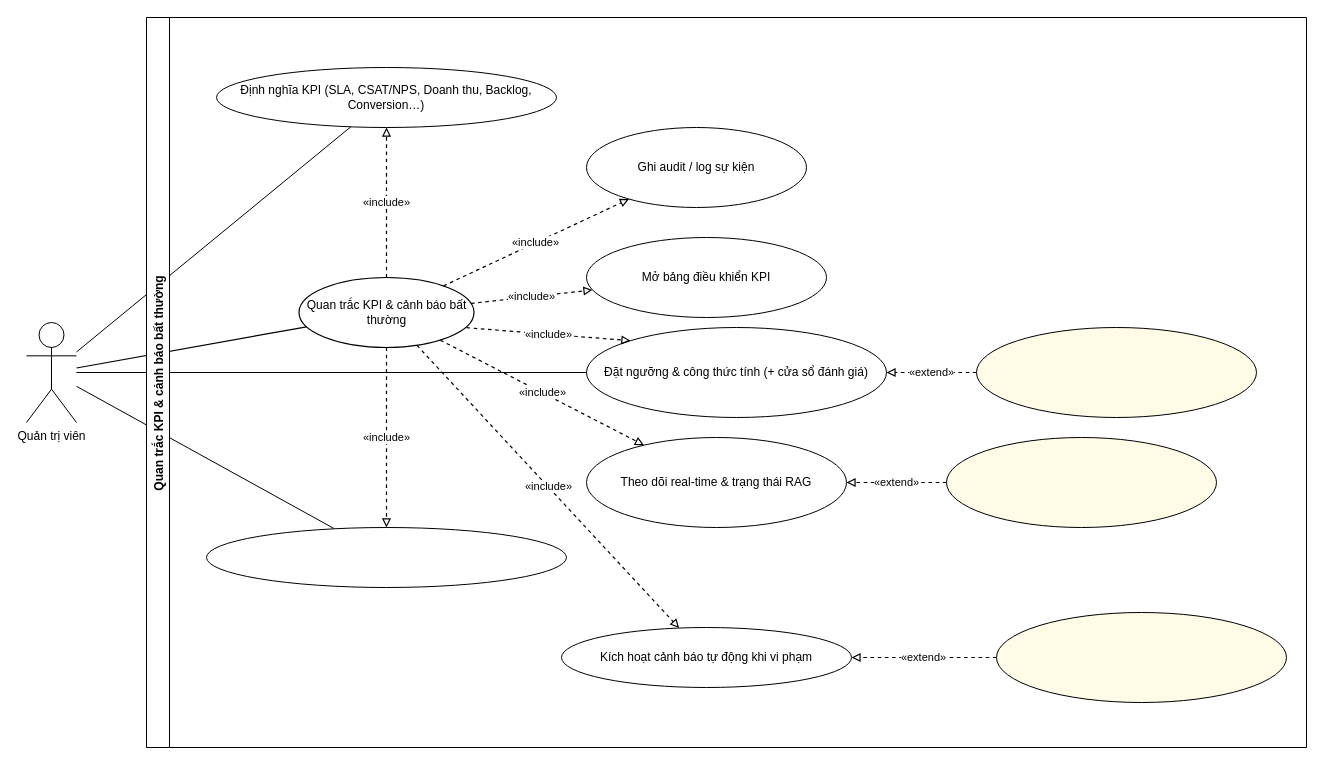
The diagram is 1324 pixels wide and 765 high, and some of its shapes have lost their labels. The centre of each missing label's shape, as x and y in pixels:
"Backfill dữ liệu khi “data delayed”" belongs at point 1081,482.
"Cấu hình kênh cảnh báo (Email / Chat / Notification) & người nhận" belongs at point 386,557.
"Ghi log & Retry theo backoff khi gửi cảnh báo thất bại" belongs at point 1141,657.
"Điều chỉnh ngưỡng Làm mượt (Moving Average) khi cảnh báo nhiễu" belongs at point 1116,372.
